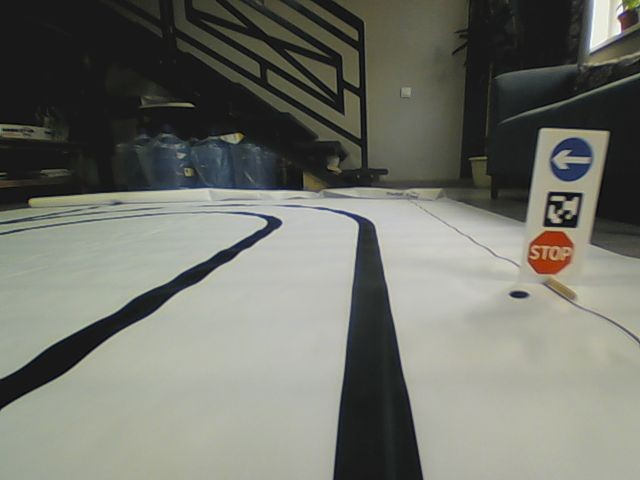Stop: (526, 229, 575, 277)
